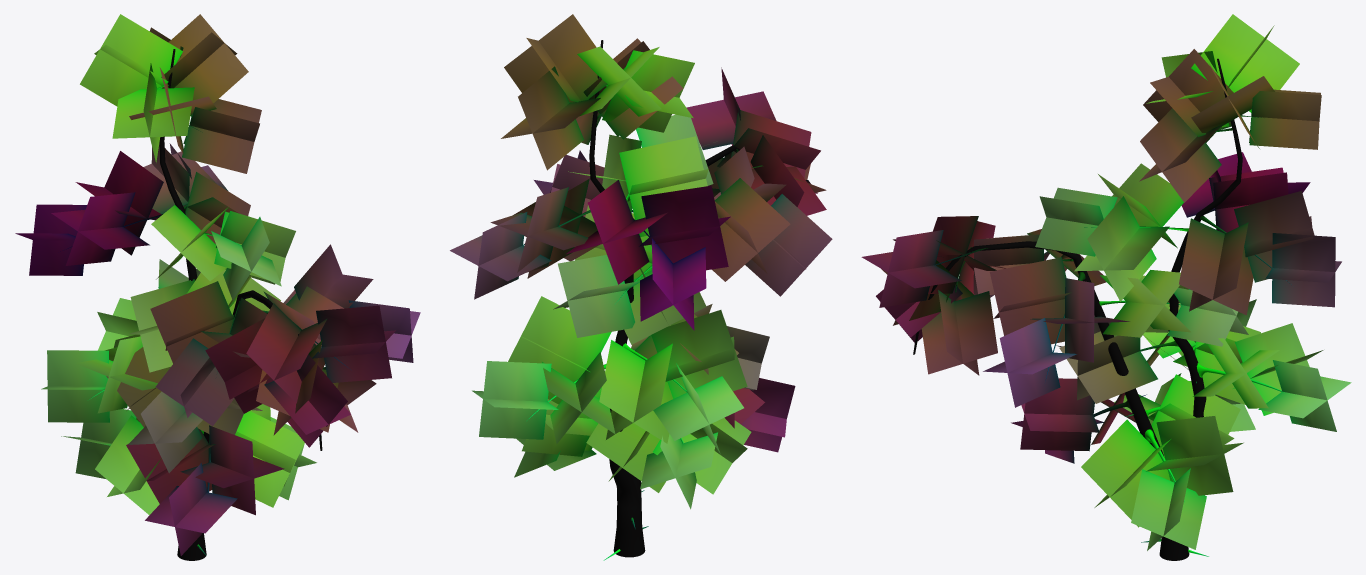
Rendered from URP_P7_Tree_14_LOD_0.fbx.
3 renders of one model, left to right at view 1: azimuth 30°, elevation 25°; view 2: azimuth 150°, elevation 25°; view 3: azimuth 270°, elevation 25°, orthographic. The views are drawn at different scales.
Visible parts, largest first — view 1: Tree_14_LOD_0; view 2: Tree_14_LOD_0; view 3: Tree_14_LOD_0.
Part boxes in pixels (left/top/right/bottom): Tree_14_LOD_0: left=15, top=14, right=420, bottom=560; Tree_14_LOD_0: left=450, top=14, right=832, bottom=560; Tree_14_LOD_0: left=861, top=14, right=1351, bottom=560.
Size of the model in its own units: 272 by 460 by 394.
